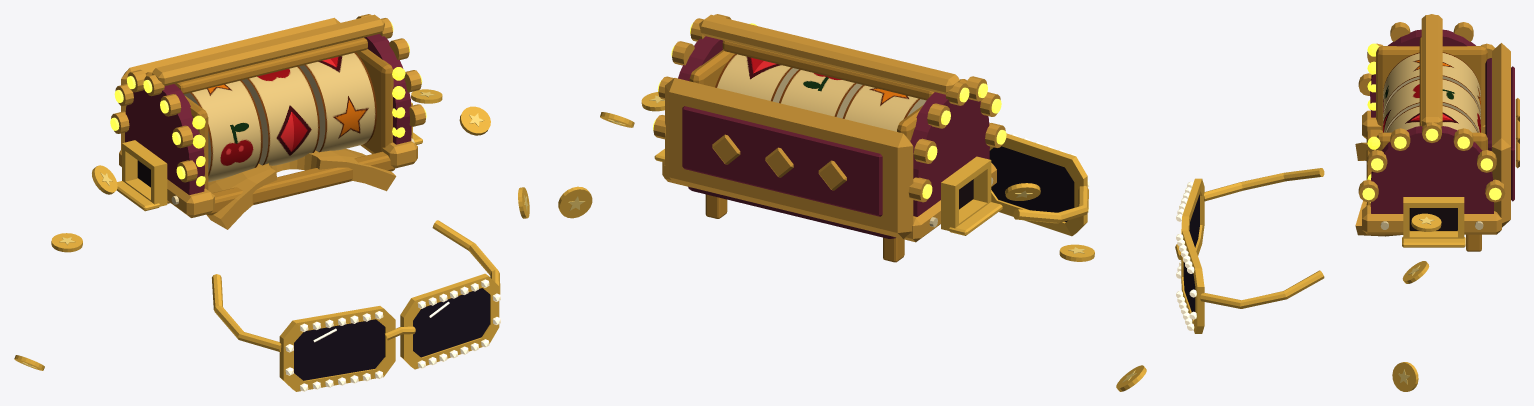
Rendered from jackpot-jackpot-v3-accessories.fbx.
3 views of the same model, side by side, from view 1: azimuth 30°, elevation 25°; view 2: azimuth 150°, elevation 25°; view 3: azimuth 270°, elevation 25° (orthographic). The views are drawn at different scales.
Visible parts, largest first — view 1: SymbolReel_2, SymbolReel_1, SymbolReel_0, JackpotCrestRail, JackpotShadesLens_-1, JackpotArchCase_-1, JackpotBackSaddle, JackpotShadesLens_1, JackpotShadesGoldFrame_-1, FrontSill, JackpotShadesGoldFrame_1, UpperRail (+15 smaller); view 2: JackpotBackShield, JackpotBackEnamel, JackpotCrestRail, JackpotArchCase_-1, JackpotShadesLens_-1, SymbolReel_1, SymbolReel_2, JackpotPayoutChute_-1, JackpotShadesGoldFrame_-1, SymbolReel_0, UpperRail, JackpotShadesTemple_-1 (+11 smaller); view 3: JackpotArchCase_1, JackpotBackShield, JackpotCrestRail, ReelSide_-0.585, SymbolReel_0, SymbolReel_1, JackpotBasePlinth_1, JackpotPayoutChute_1, JackpotShadesTemple_1, JackpotShadesTemple_-1, JackpotShadesGoldFrame_1, SymbolReel_2 (+16 smaller).
Boxes of the visible parts, x1,y1,x2,y2 form: SymbolReel_2: (299, 52, 376, 152); SymbolReel_1: (242, 66, 319, 165); SymbolReel_0: (184, 80, 262, 182); JackpotCrestRail: (152, 14, 384, 86); JackpotShadesLens_-1: (294, 319, 384, 380); JackpotArchCase_-1: (125, 84, 204, 194); JackpotBackSaddle: (206, 149, 396, 229); JackpotShadesLens_1: (413, 288, 489, 357); JackpotShadesGoldFrame_-1: (279, 306, 395, 391); FrontSill: (207, 151, 394, 215); JackpotShadesGoldFrame_1: (400, 273, 499, 369); UpperRail: (175, 37, 367, 94); JackpotBackShield: (665, 78, 913, 238); JackpotBackEnamel: (682, 106, 882, 216); JackpotCrestRail: (699, 14, 959, 94); JackpotArchCase_-1: (910, 92, 989, 216); JackpotShadesLens_-1: (989, 146, 1074, 221); SymbolReel_1: (779, 69, 862, 118); SymbolReel_2: (715, 54, 798, 102); JackpotPayoutChute_-1: (941, 156, 991, 230); JackpotShadesGoldFrame_-1: (989, 133, 1087, 236); SymbolReel_0: (842, 85, 926, 131); UpperRail: (722, 40, 934, 100); JackpotShadesTemple_-1: (1013, 186, 1088, 223); JackpotArchCase_1: (1370, 126, 1493, 213); JackpotBackShield: (1492, 43, 1510, 227); JackpotCrestRail: (1421, 15, 1442, 127); ReelSide_-0.585: (1376, 46, 1487, 132); SymbolReel_0: (1383, 52, 1480, 119); SymbolReel_1: (1383, 79, 1480, 132); JackpotBasePlinth_1: (1362, 205, 1501, 234); JackpotPayoutChute_1: (1403, 197, 1464, 238); JackpotShadesTemple_1: (1200, 270, 1324, 308); JackpotShadesTemple_-1: (1204, 168, 1324, 201); JackpotShadesGoldFrame_1: (1181, 230, 1204, 333); SymbolReel_2: (1386, 105, 1477, 132).
Size of the model in its own units: 1961 by 926 by 1183.
16 materials, 3 textured.
